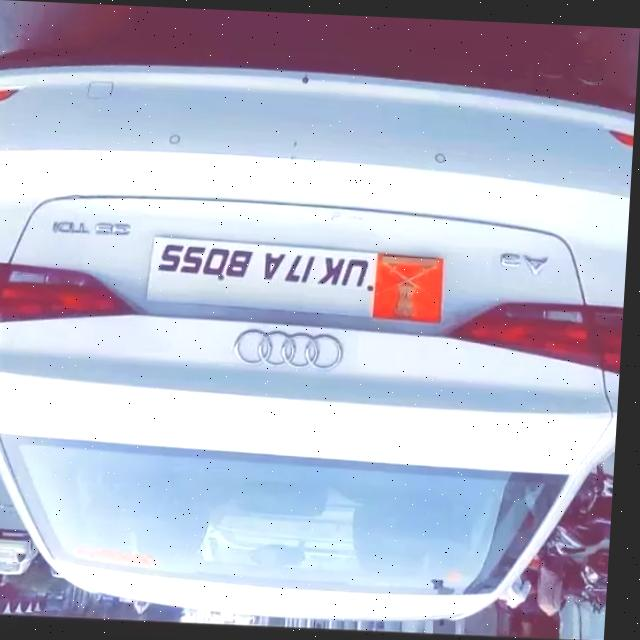plate: (147, 221, 455, 325)
